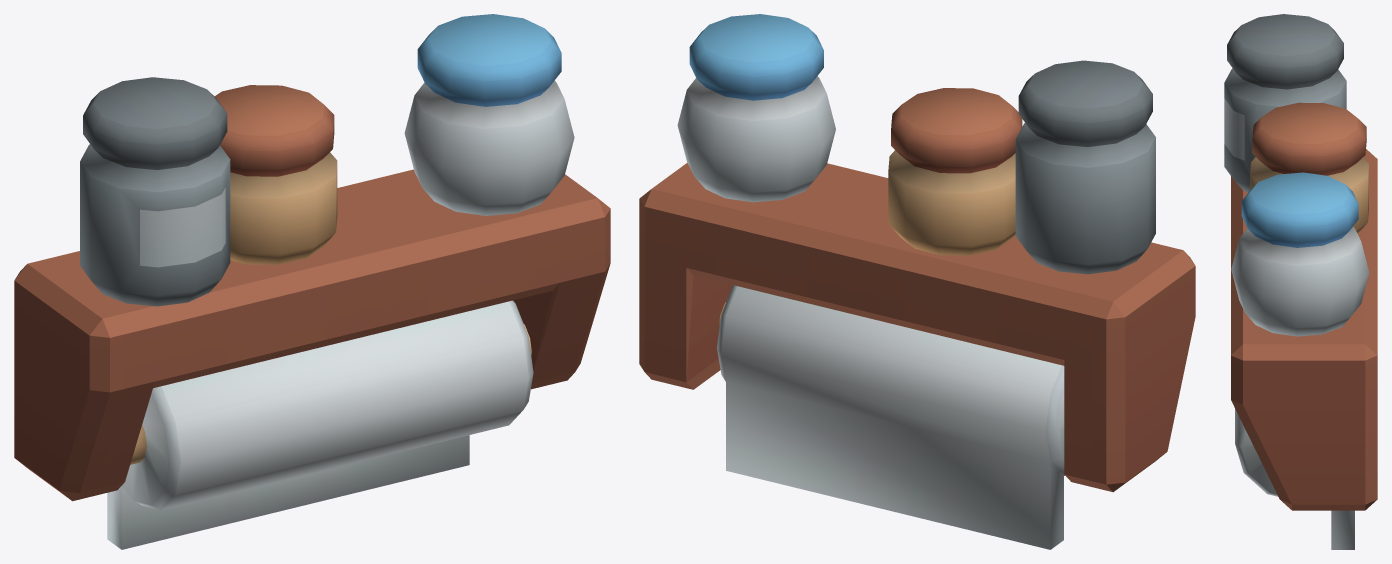
Rendered from shelf_papertowel_decorated.glb.
The picture shows the model from 3 angles, left to right: view 1: azimuth 30°, elevation 25°; view 2: azimuth 150°, elevation 25°; view 3: azimuth 270°, elevation 25°; orthographic projection. The views are drawn at different scales.
Parts seen in each view (by area): view 1: shelf_papertowel_decorated; view 2: shelf_papertowel_decorated; view 3: shelf_papertowel_decorated.
Boxes of the visible parts, <box> form: shelf_papertowel_decorated: <box>14,14,610,549</box>; shelf_papertowel_decorated: <box>639,14,1195,549</box>; shelf_papertowel_decorated: <box>1224,14,1377,549</box>.
Size of the model in its own units: 2 by 1.71 by 0.6264.
1 material, 1 textured.
